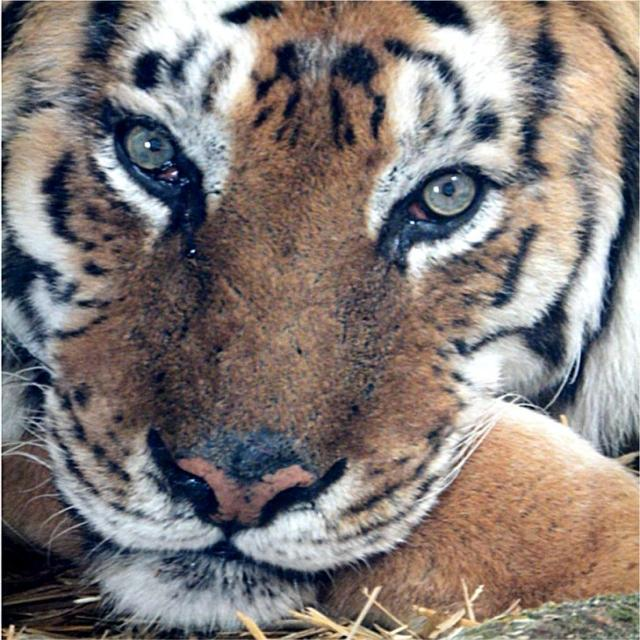Tiger: (4, 0, 632, 608)
